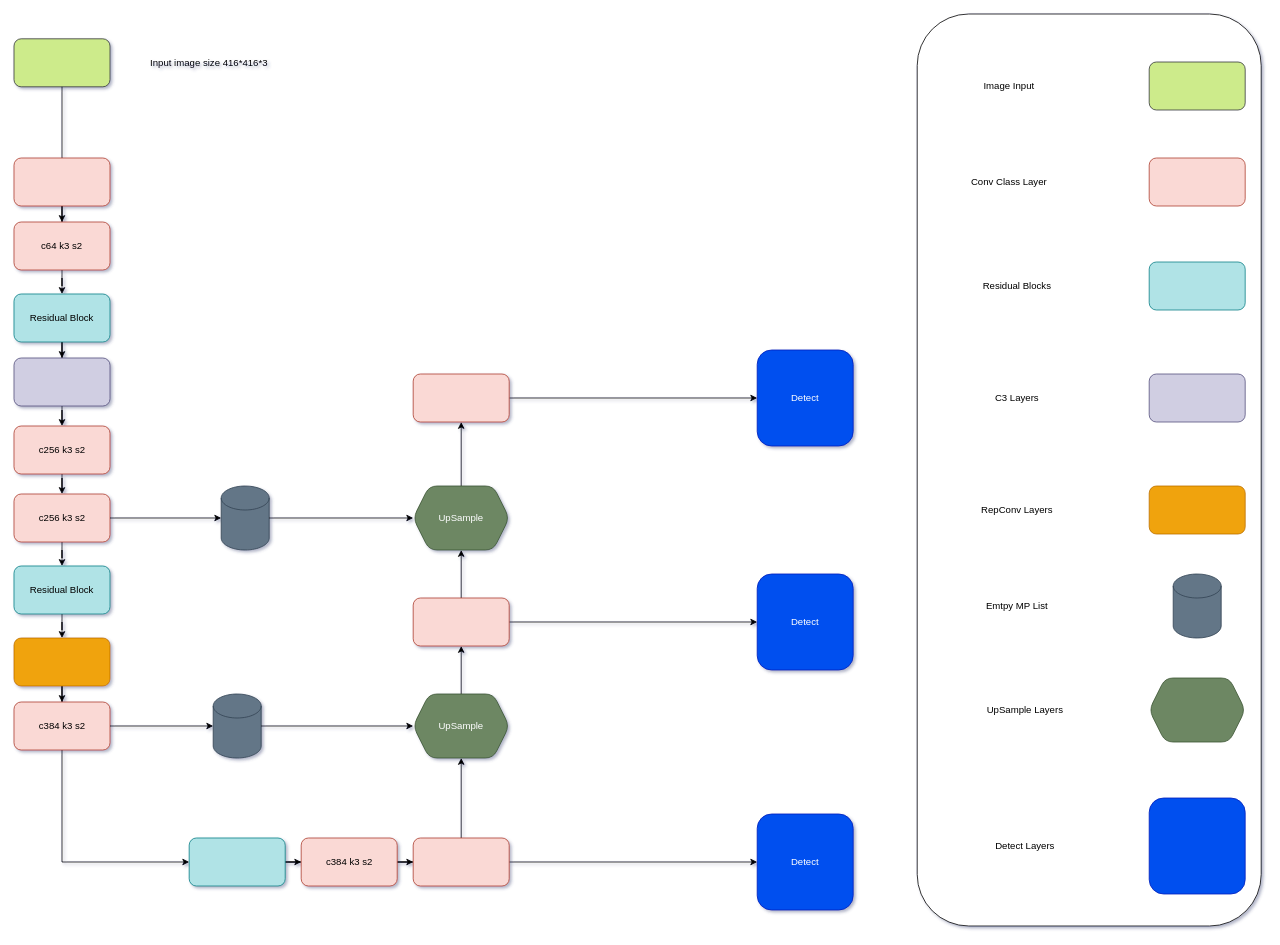
Some shapes in this 1280 by 945 pixel diagram are drawn without their labels. Each missing label, with the box of its shape:
c1024 k3 s 1: (412, 597, 509, 646)
c1280 k3 s1: (412, 373, 509, 422)
C3: (13, 357, 110, 406)
c32 k3 s1: (13, 157, 110, 206)
c728 k3 s1: (412, 837, 509, 886)
RepConv: (13, 637, 110, 686)
